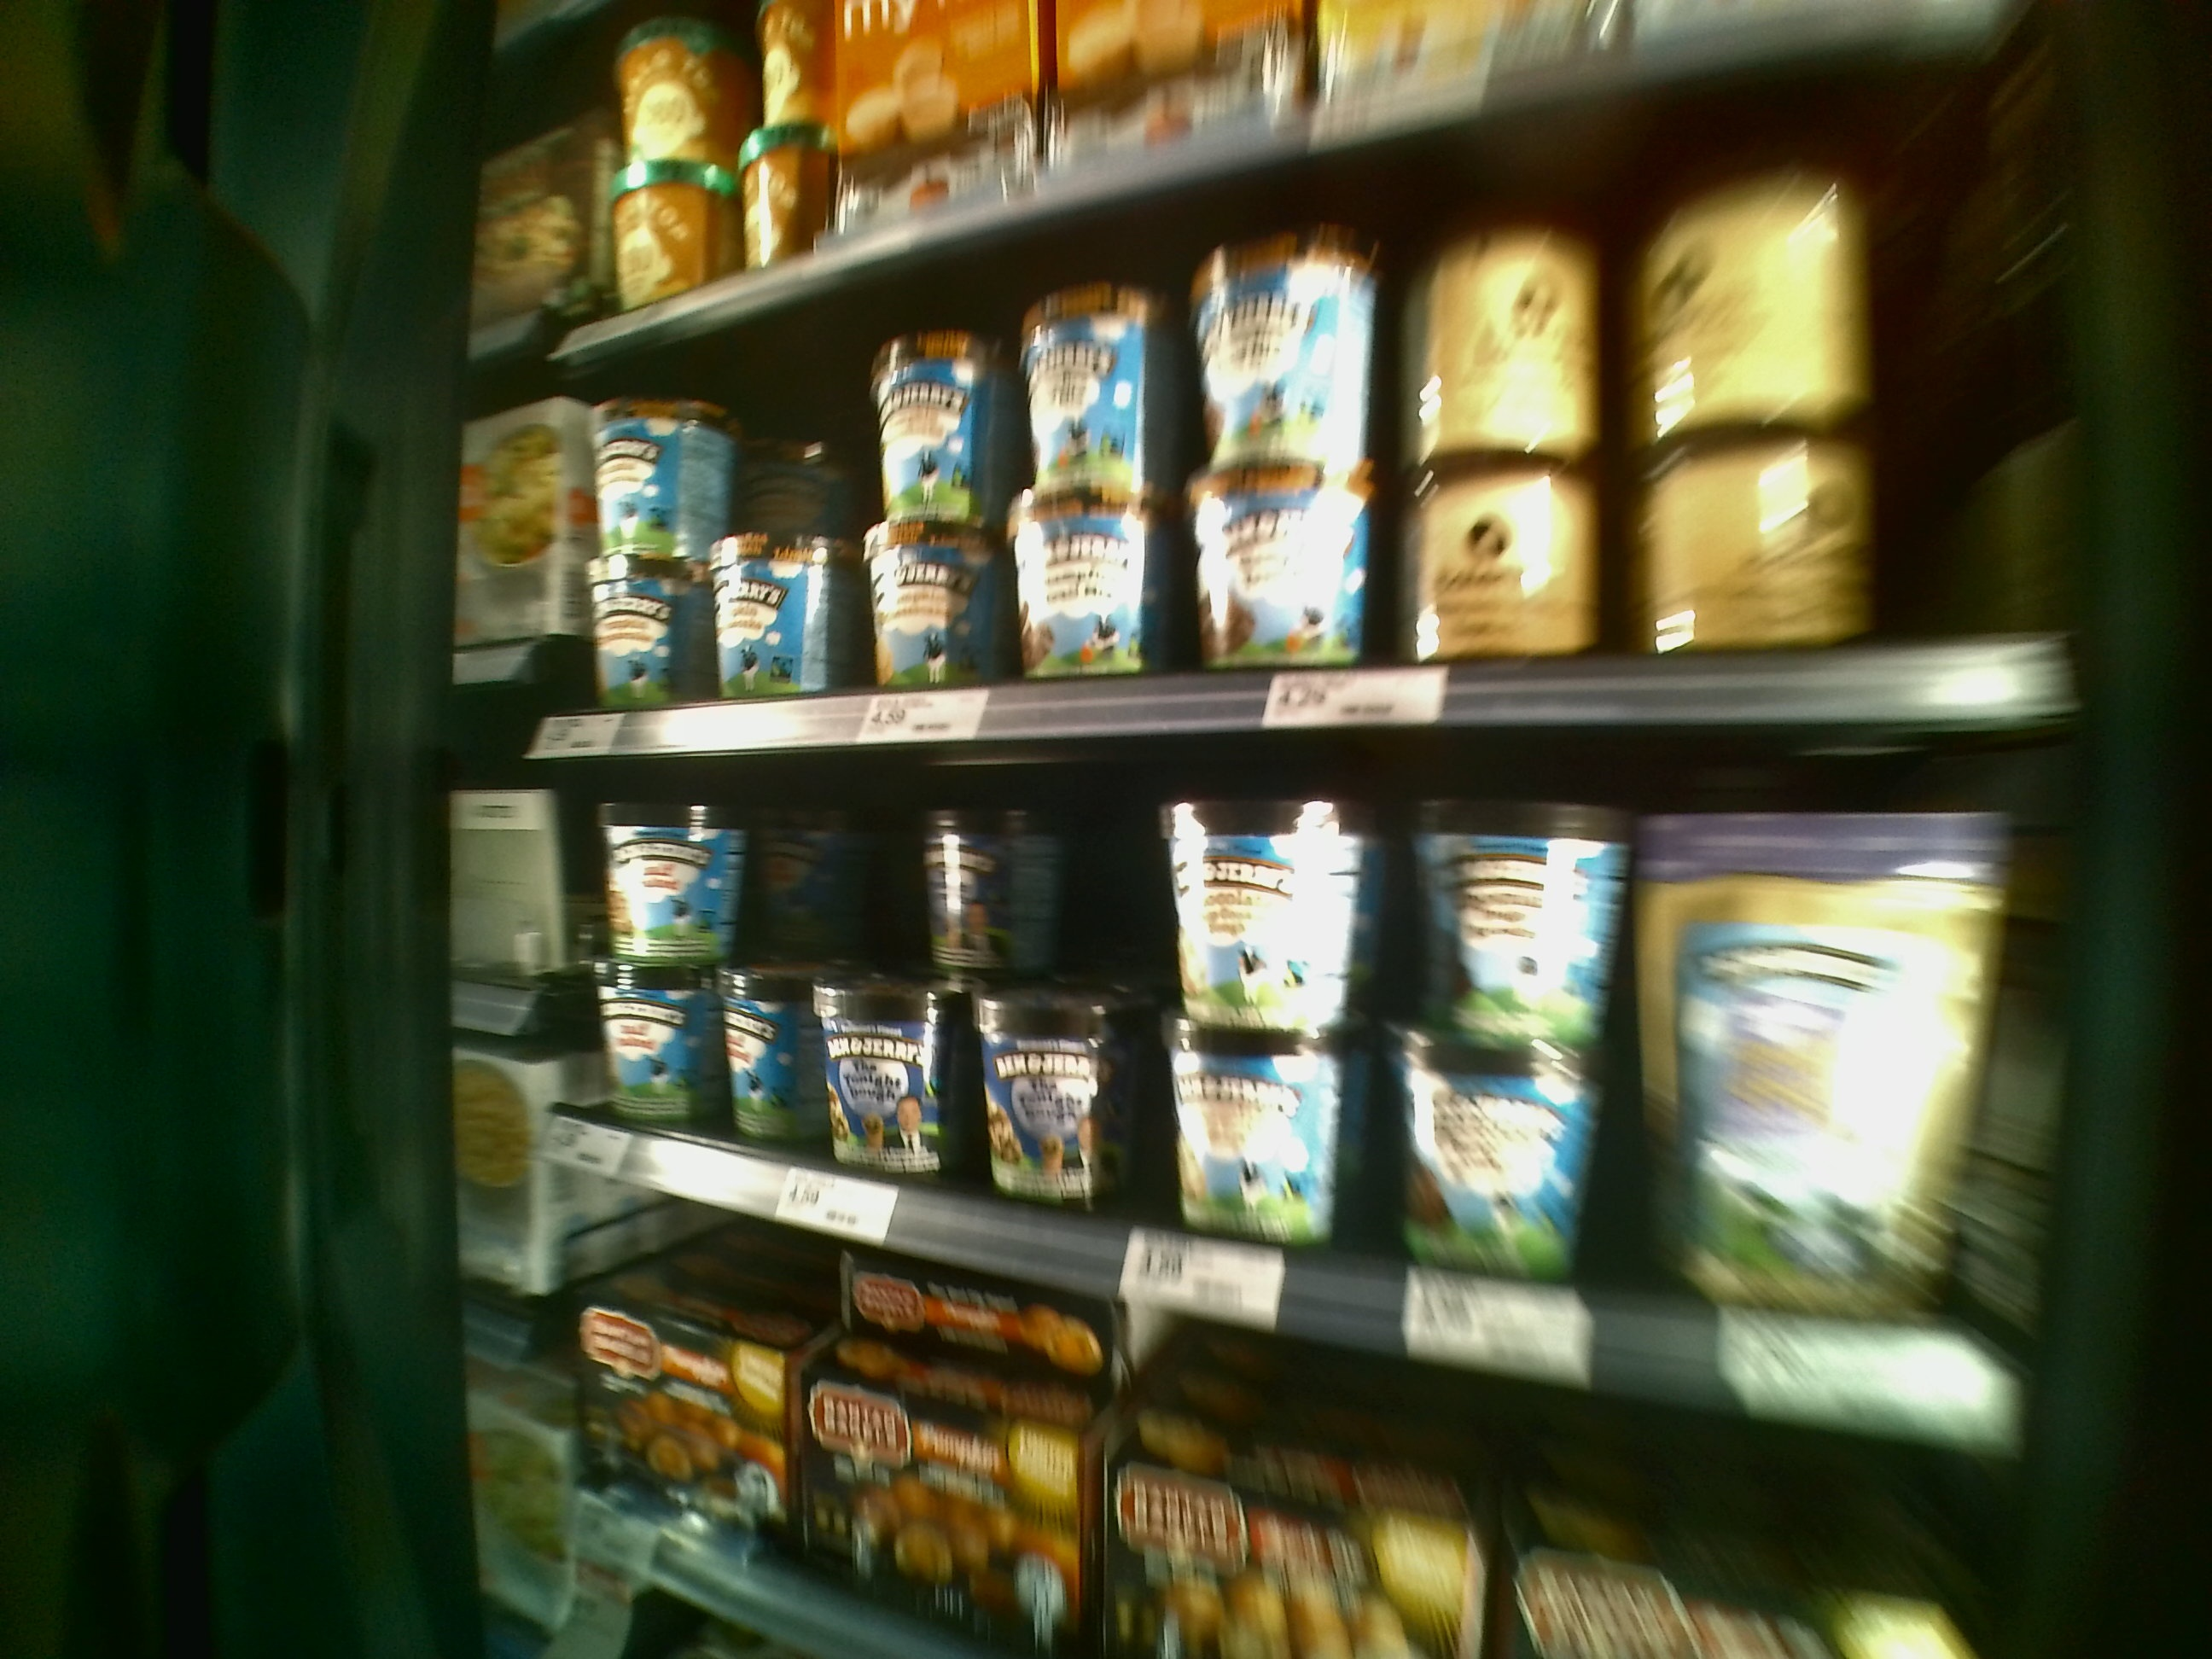shelf: (547, 673, 2024, 1425)
